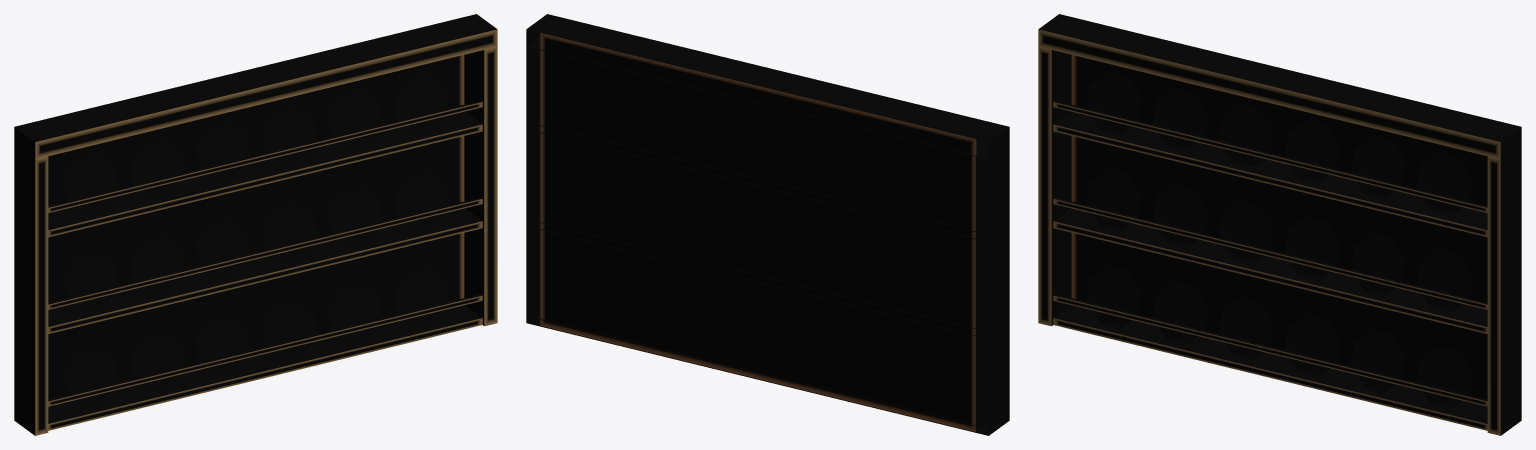
File: dresser_140.glb
3 views of the same model, side by side, from view 1: azimuth 30°, elevation 25°; view 2: azimuth 150°, elevation 25°; view 3: azimuth 330°, elevation 25° (orthographic).
Visible parts, largest first — view 1: pine, board, crockery, blue; view 2: board, pine; view 3: pine, board, crockery, blue.
Boxes of the visible parts, x1,y1,x2,y2 form: pine: (14, 14, 497, 435); board: (48, 55, 464, 399); crockery: (64, 71, 448, 392); blue: (64, 87, 448, 408); board: (540, 33, 976, 431); pine: (526, 14, 1009, 435); pine: (1038, 14, 1521, 435); board: (1071, 55, 1487, 399); crockery: (1087, 71, 1471, 408); blue: (1087, 87, 1471, 376).
Size of the model in its own units: 1.4 by 0.85 by 0.11.
